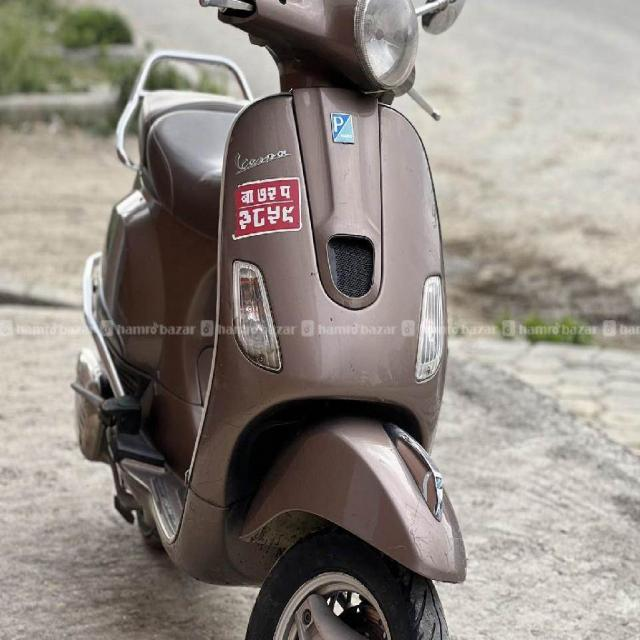License-plate: (230, 177, 304, 233)
